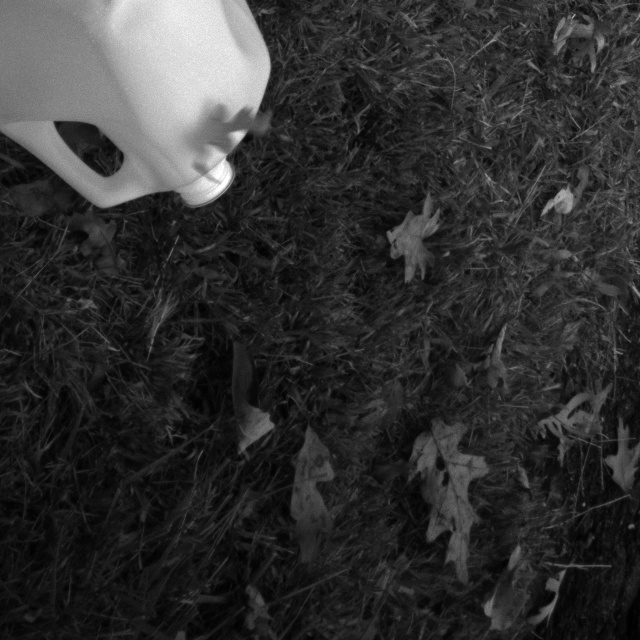can: (0, 0, 287, 238)
